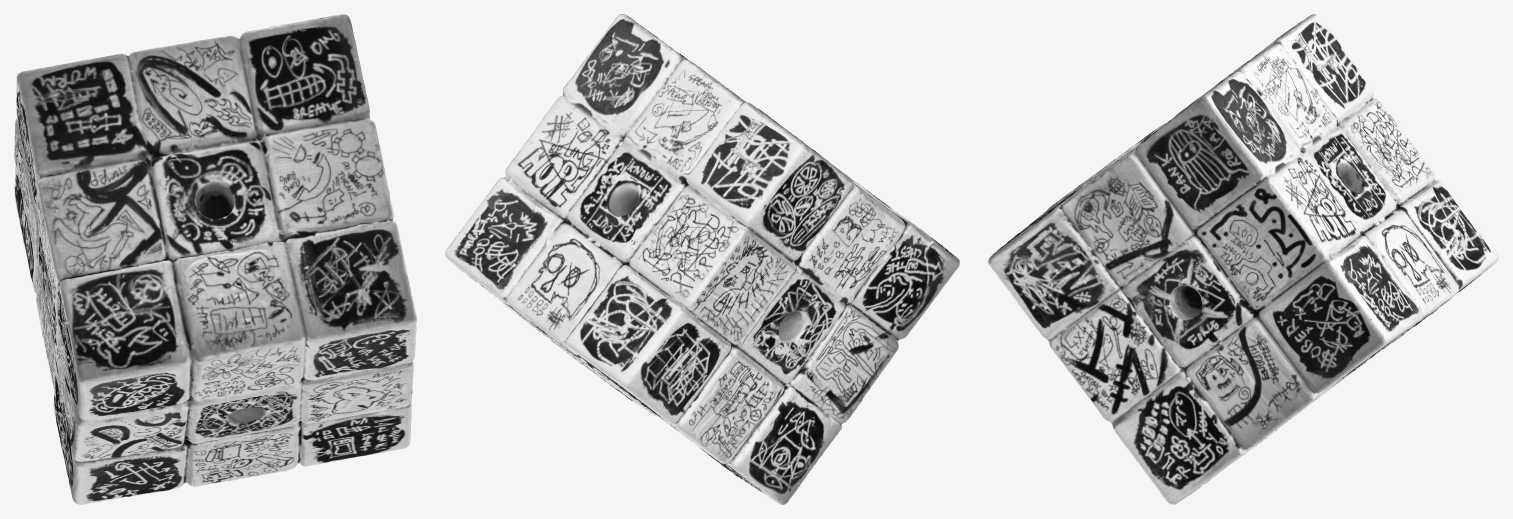
The model's file is rubik.glb.
3 renders of one model, left to right at view 1: azimuth 30°, elevation 25°; view 2: azimuth 150°, elevation 25°; view 3: azimuth 270°, elevation 25°, orthographic. The views are drawn at different scales.
Parts seen in each view (by area): view 1: 3DModel; view 2: 3DModel; view 3: 3DModel.
Part boxes in pixels (x1,y1,x2,y2): 3DModel: (14,14,416,504); 3DModel: (445,14,959,504); 3DModel: (988,14,1498,504).
Size of the model in its own units: 0.6167 by 0.651 by 0.7122.
Materials: 1 (1 with a texture image).
